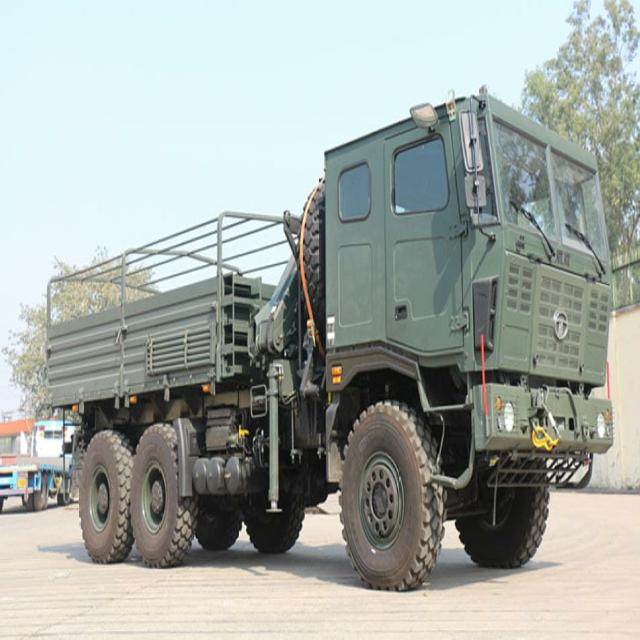truck: (42, 91, 615, 590)
